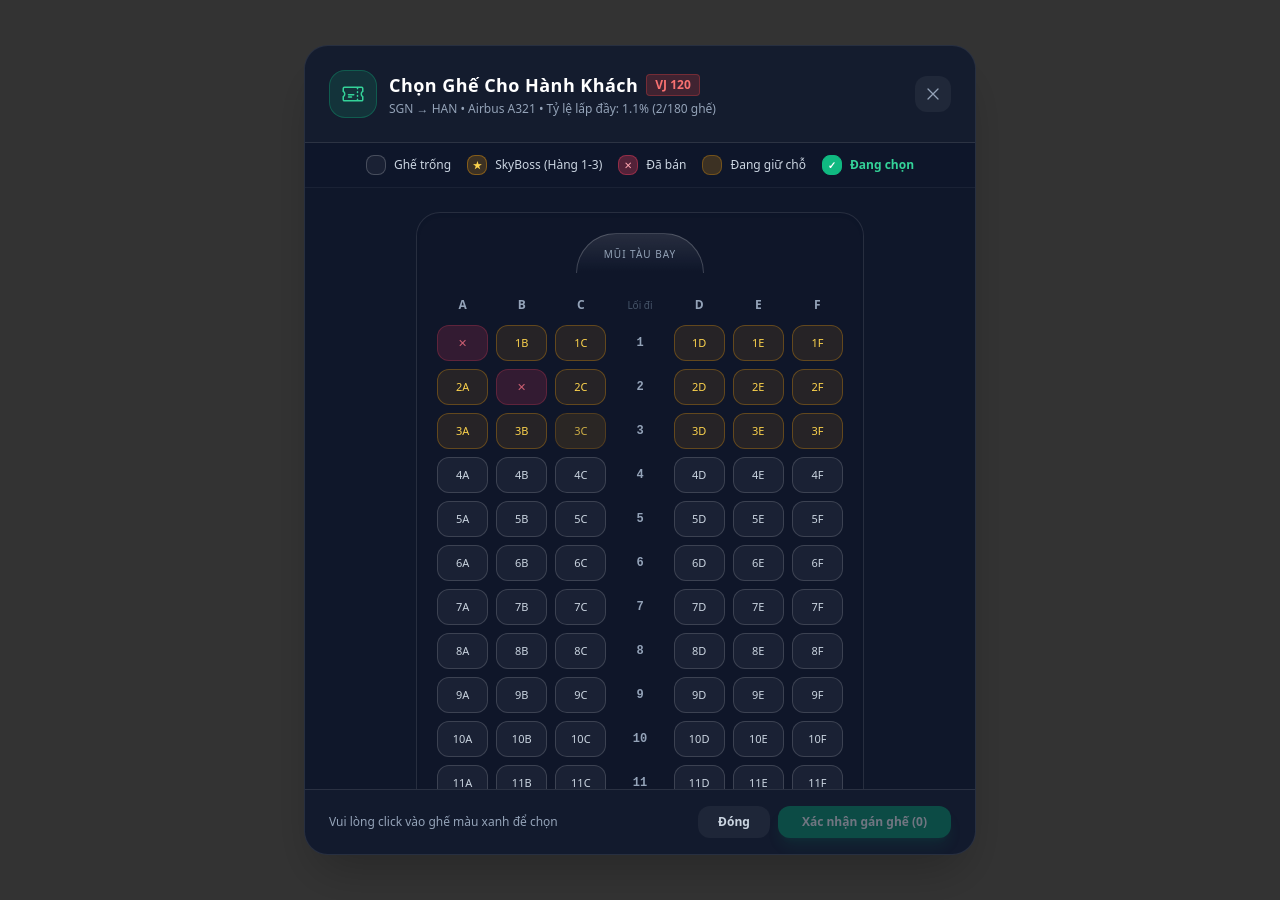
Test: AdminSeatPickerModal & GET /api/quan-tri/chuyen-bay/[id] › render modal sơ đồ ghế ở chế độ pick, chọn ghế thành công và gọi onConfirm
Later steps or results of the test are not shown.
Check: the heading "Chọn Ghế Cho Hành Khách" is shown, box [389,71,638,99]
Check: the text "VJ 120" is shown, box [646,74,700,96]
Click the button titled "Ghế 4A".
click(463, 475)  # box [437,457,488,493]
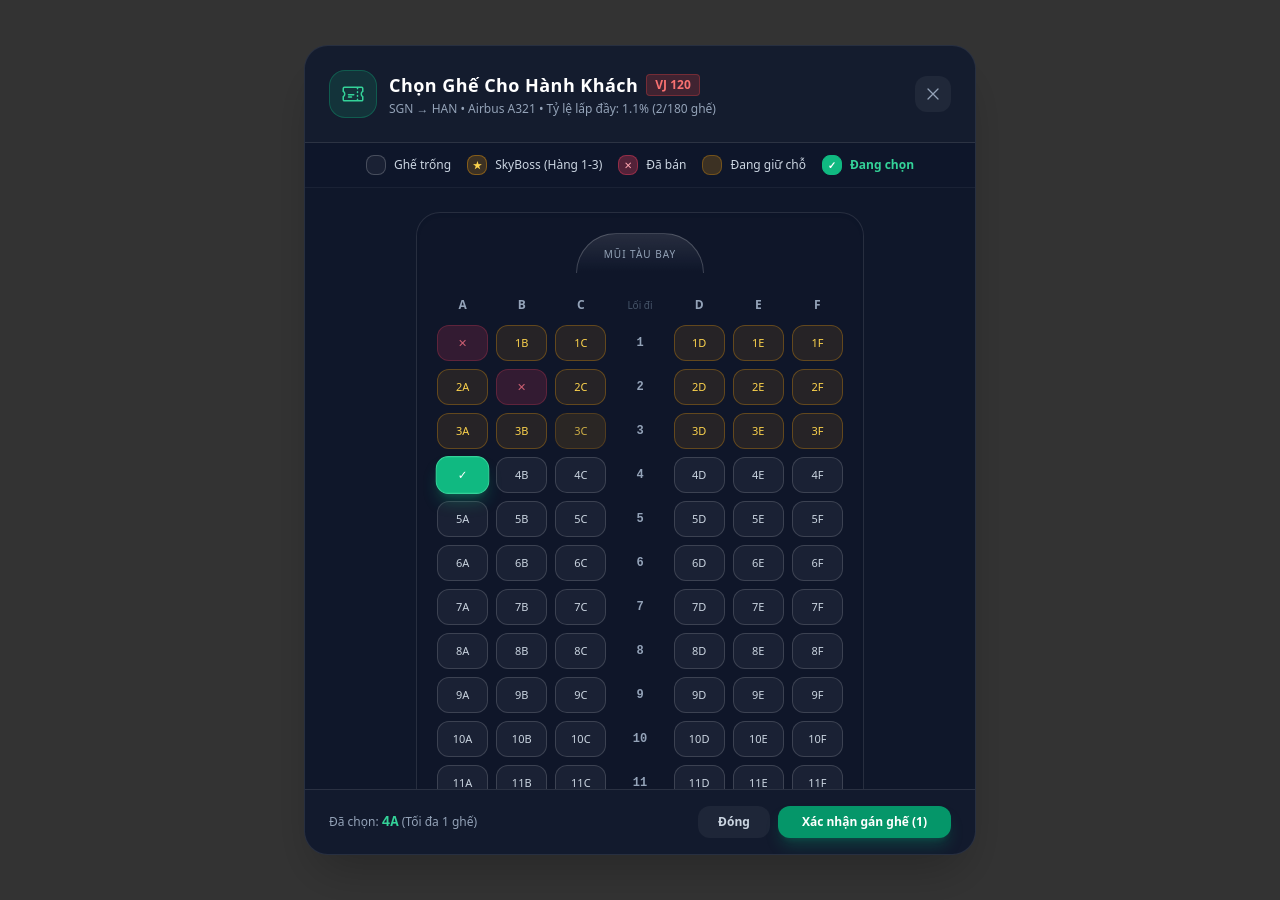
Check: the button "Xác nhận gán ghế (1)" is enabled, box [778,806,951,838]
